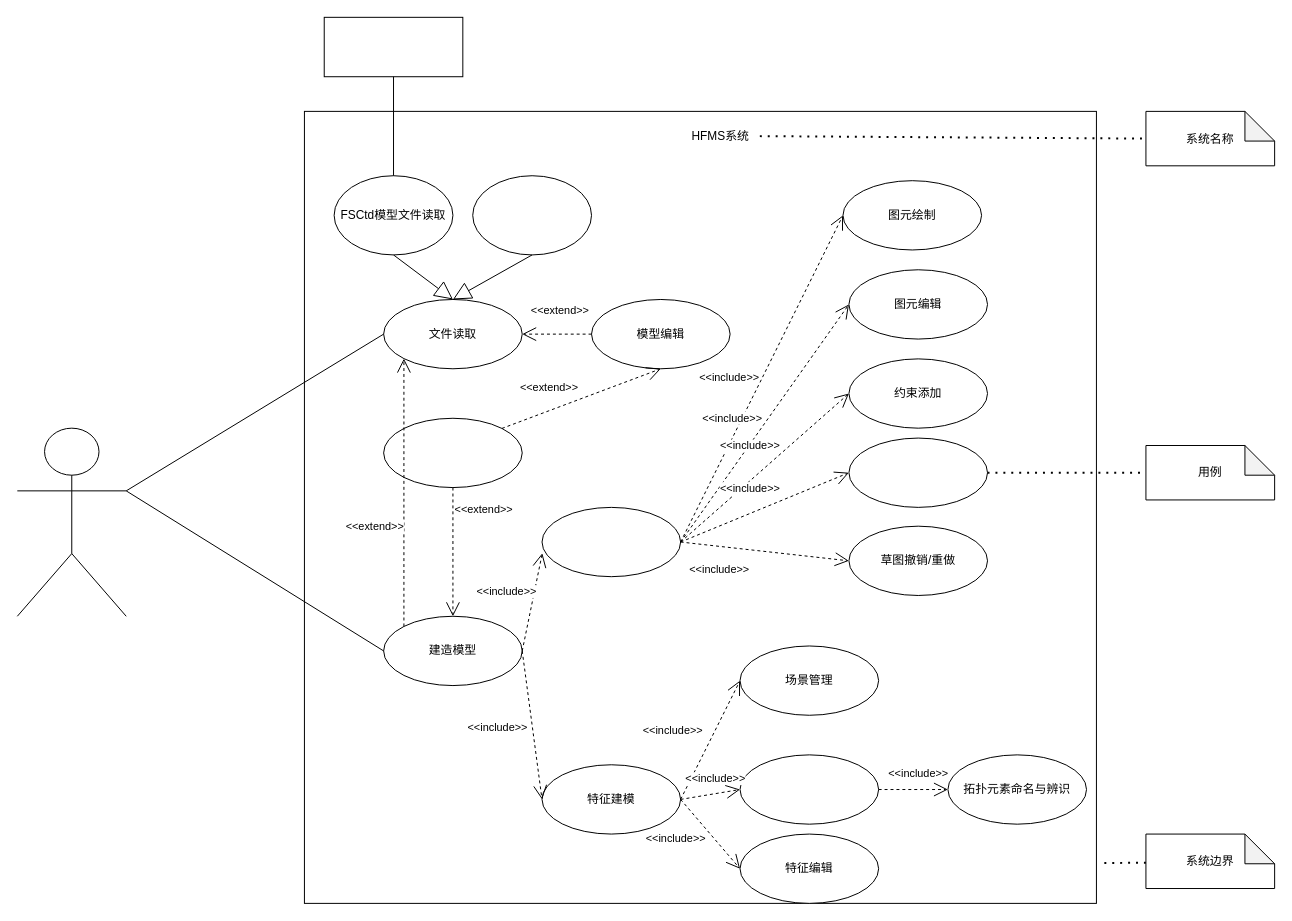
Some shapes in this 1292 by 921 pixel diagram are drawn without their labels. Each missing label, with the box of its shape:
<<FreeCAD>>: (323, 16, 463, 77)
本地系统模型文件读取: (472, 175, 592, 255)
模型文件保存: (383, 417, 522, 488)
特征创建: (739, 754, 879, 824)
用户: (16, 427, 126, 616)
约束编辑: (848, 437, 988, 507)
绘制草图: (541, 506, 681, 577)
